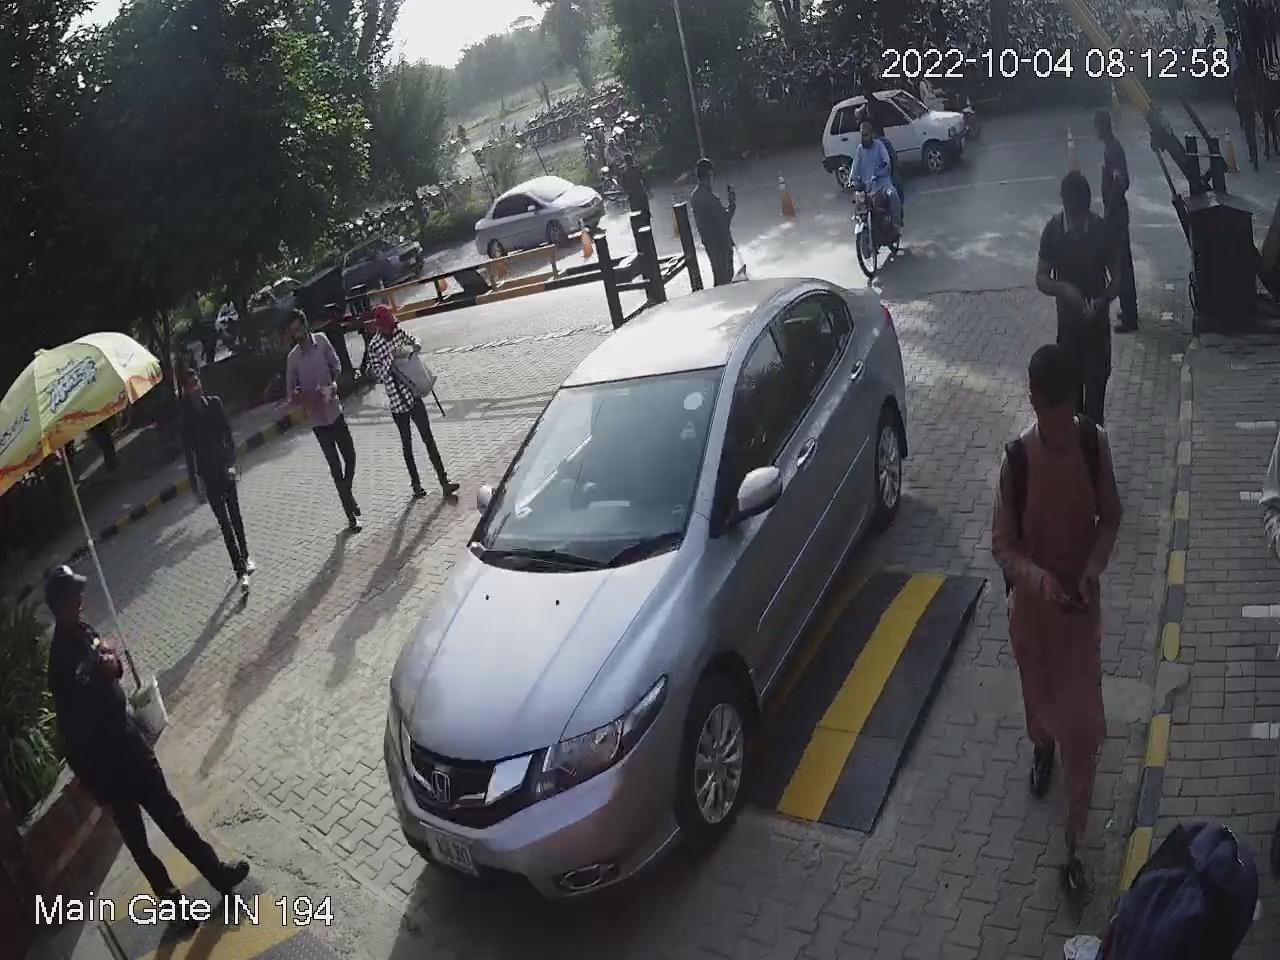windshield: (468, 362, 724, 553)
